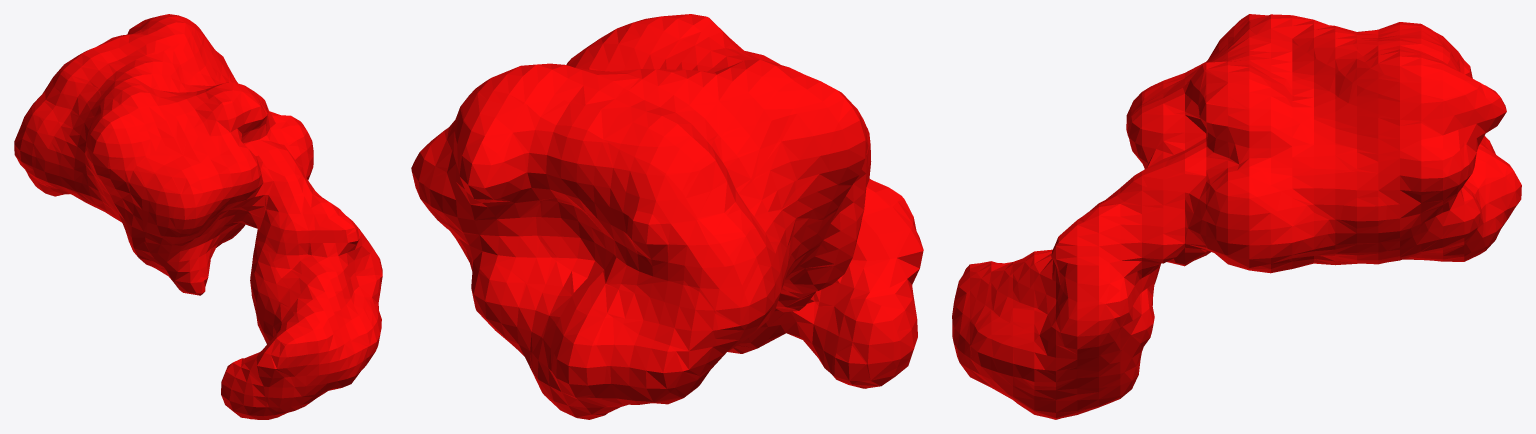
Rendered from glnK_coarse.dae.
The picture shows the model from 3 angles, left to right: view 1: azimuth 30°, elevation 25°; view 2: azimuth 150°, elevation 25°; view 3: azimuth 270°, elevation 25°; orthographic projection. The views are drawn at different scales.
Visible parts, largest first — view 1: glnK; view 2: glnK; view 3: glnK.
Boxes of the visible parts, box(x1,y1,x2,y2) form: glnK: box(14, 14, 382, 419); glnK: box(411, 14, 923, 419); glnK: box(952, 14, 1521, 419).
Bounding box in the file's own units: 58.24 × 67.42 × 96.46.
